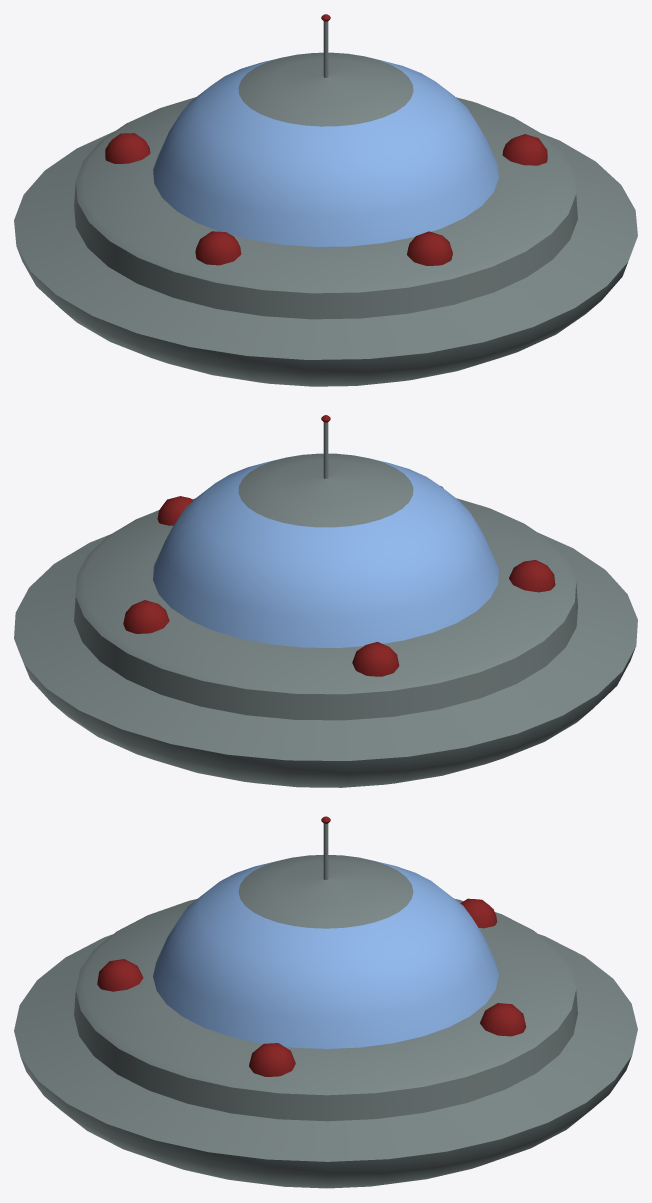
The model's file is UFO.fbx.
3 renders of one model, top to bottom at view 1: azimuth 30°, elevation 25°; view 2: azimuth 150°, elevation 25°; view 3: azimuth 270°, elevation 25°, orthographic.
Visible parts, largest first — view 1: UFO, Lights; view 2: UFO, Lights; view 3: UFO, Lights.
Boxes of the visible parts, x1,y1,x2,y2 form: UFO: (14, 21, 637, 386); Lights: (105, 133, 547, 265); UFO: (14, 422, 637, 787); Lights: (123, 486, 555, 676); UFO: (14, 823, 637, 1188); Lights: (97, 898, 526, 1076).
Size of the model in its own units: 243 by 135 by 243.
